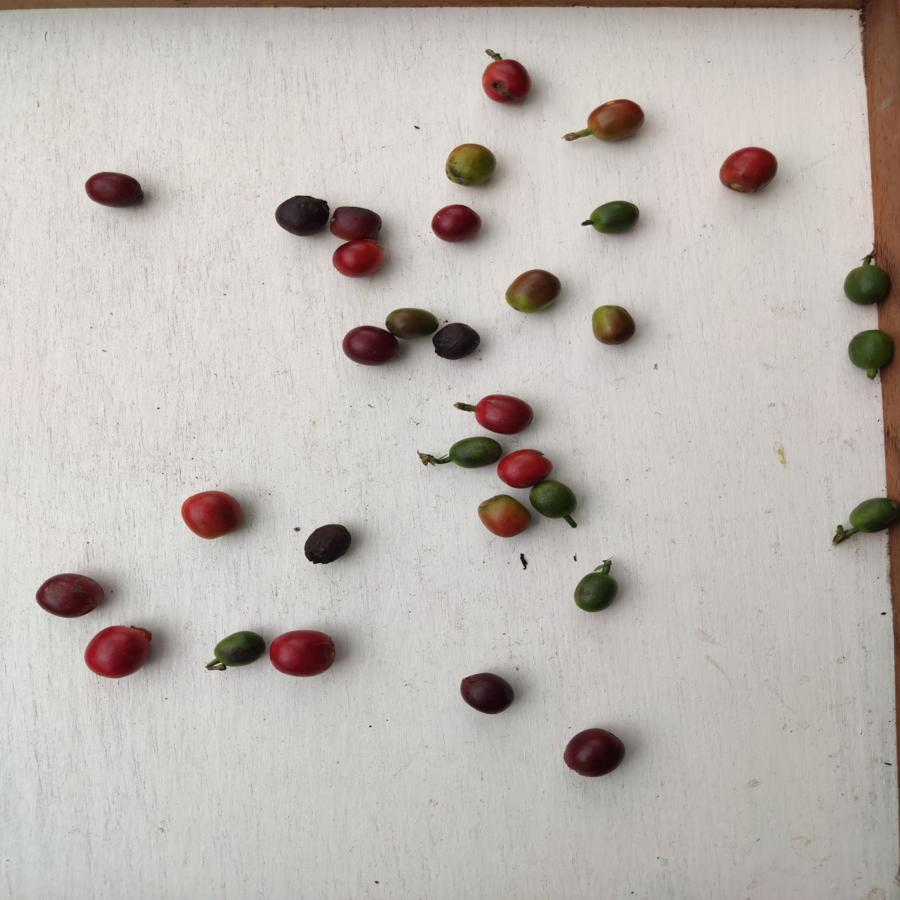Inmaduro: (848, 328, 896, 377), (844, 262, 893, 307), (848, 493, 898, 536), (572, 569, 616, 616), (589, 198, 640, 236), (215, 630, 265, 668), (535, 481, 581, 520), (447, 436, 500, 468)
Maduro: (84, 624, 154, 678), (181, 489, 245, 542), (269, 631, 338, 678), (720, 147, 782, 197), (474, 393, 538, 434), (482, 57, 530, 107), (330, 239, 386, 281), (497, 450, 555, 482)
Pinton: (502, 268, 565, 315), (586, 97, 645, 144), (443, 138, 497, 189), (478, 492, 532, 539), (586, 303, 638, 349)
Sobremaduro: (562, 726, 628, 781), (35, 572, 107, 619), (85, 168, 147, 215), (457, 671, 516, 720), (272, 196, 330, 237), (304, 524, 352, 568), (431, 202, 481, 243), (344, 328, 399, 365), (330, 206, 385, 240), (433, 323, 479, 362)
